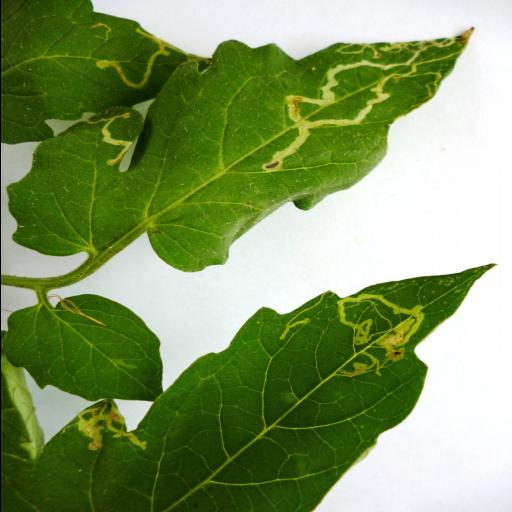Leaf Miner: (27, 262, 498, 512), (5, 26, 479, 274)
